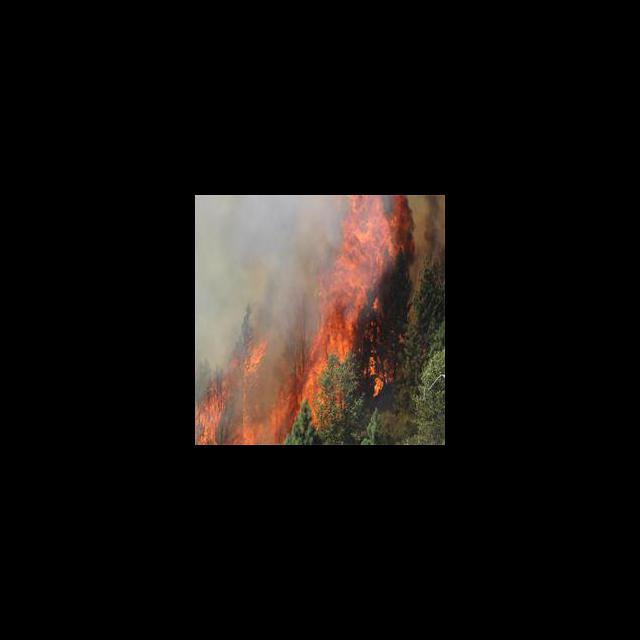Fire: (196, 195, 418, 444)
Smoke: (197, 196, 344, 398)
